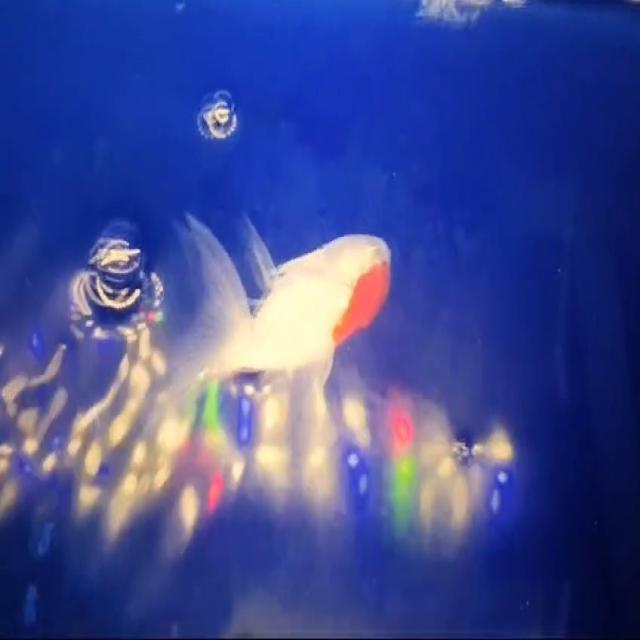fish: (178, 191, 396, 422)
